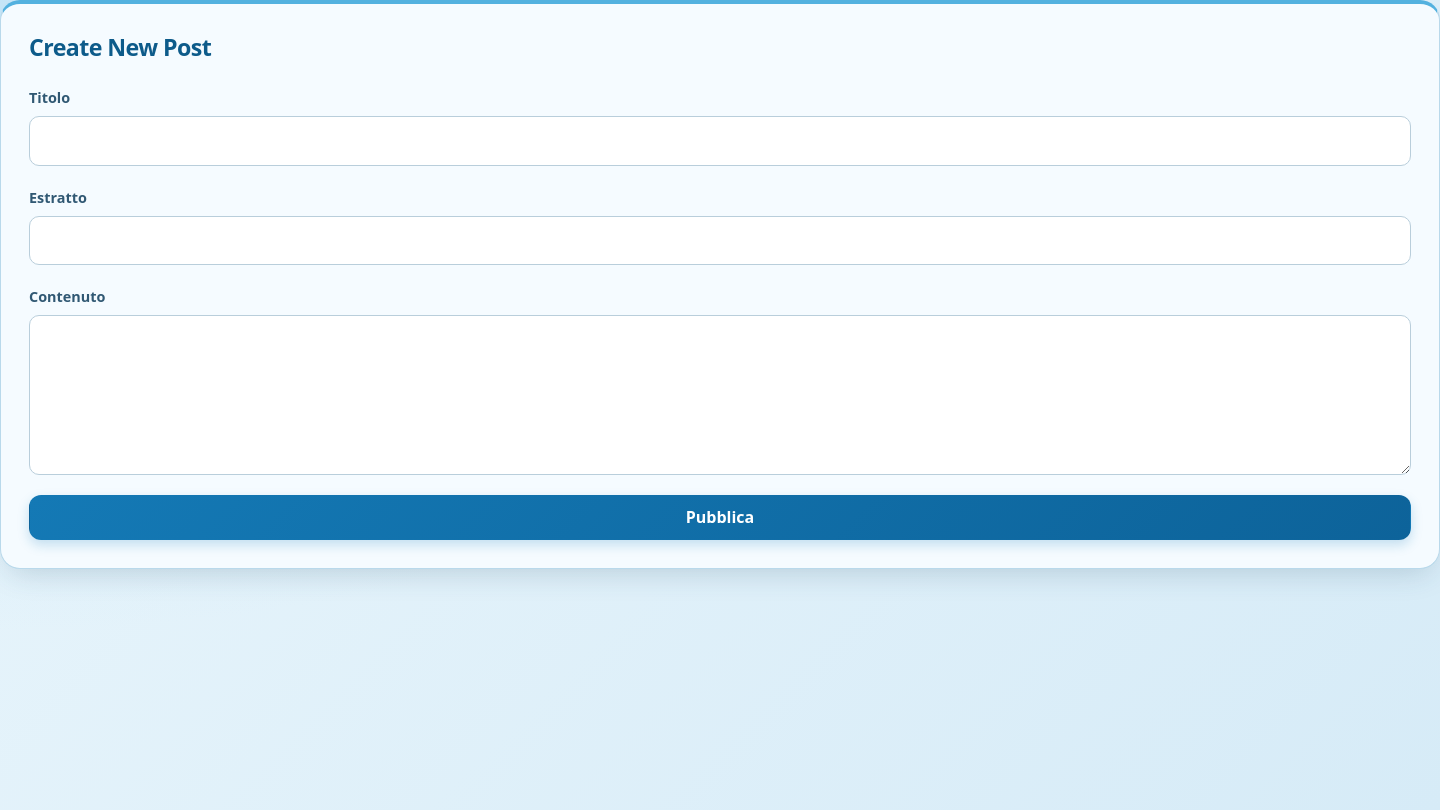
it: NewPostForm › Mostra un messaggio di errore se il titolo è vuoto
Click the button "Pubblica". click: [720, 518]
box: x1=29 y1=496 x2=1411 y2=540
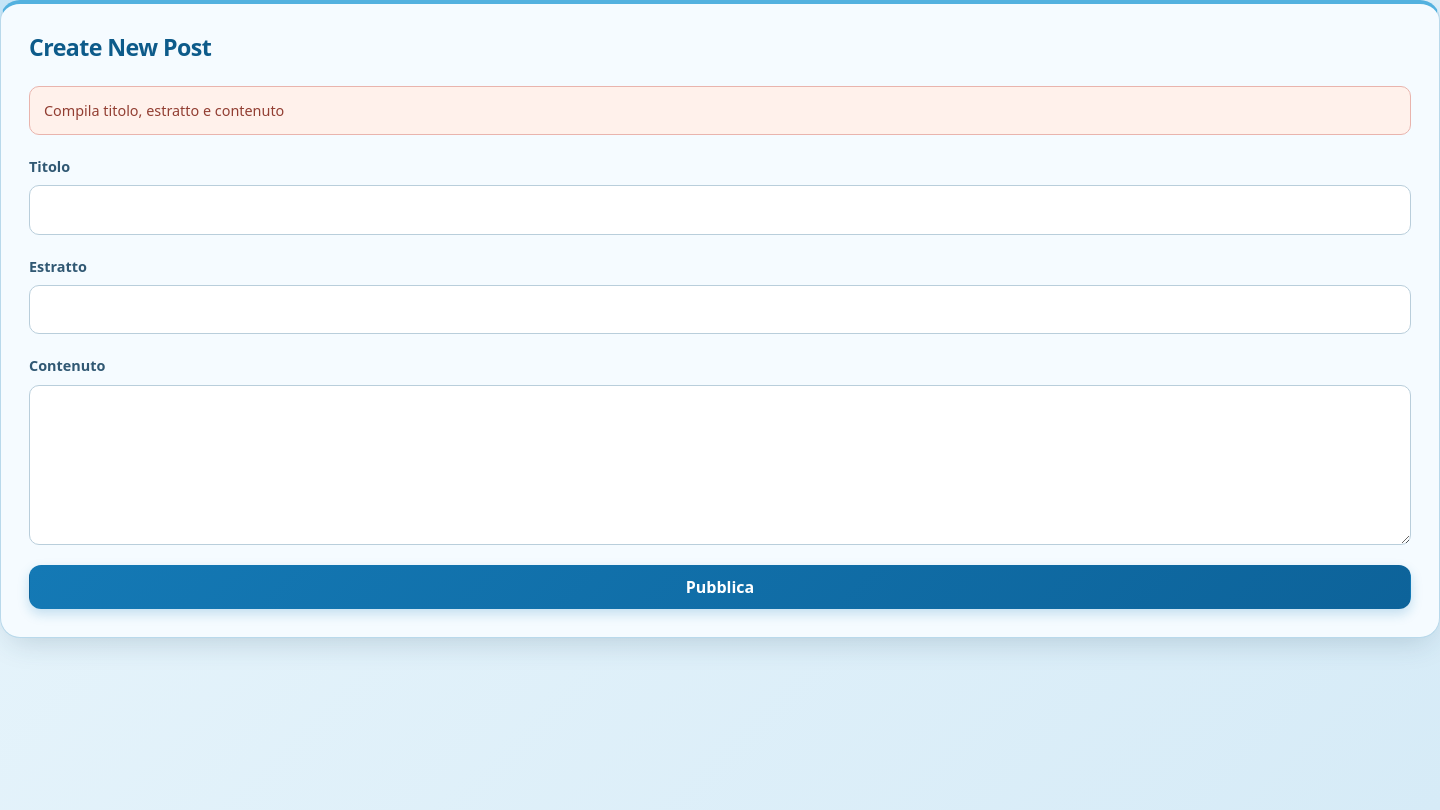
Check: the message "Compila titolo, estratto e contenuto" is shown, box x1=29 y1=86 x2=1411 y2=135
